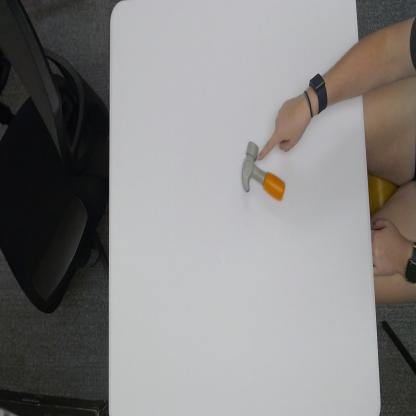Arm: (327, 37, 362, 102)
Hammer: (241, 139, 286, 201)
Hand: (259, 94, 312, 160)
